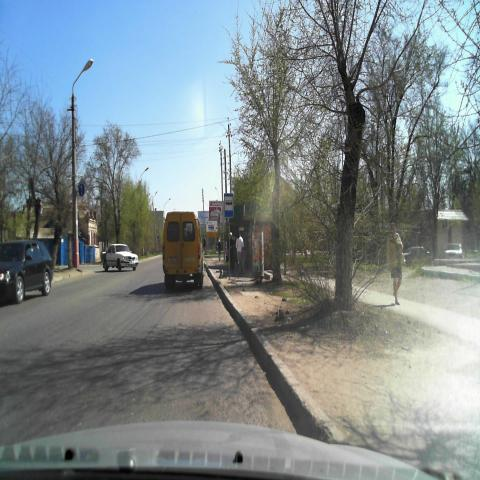4_1_1: (78, 183, 86, 198)
